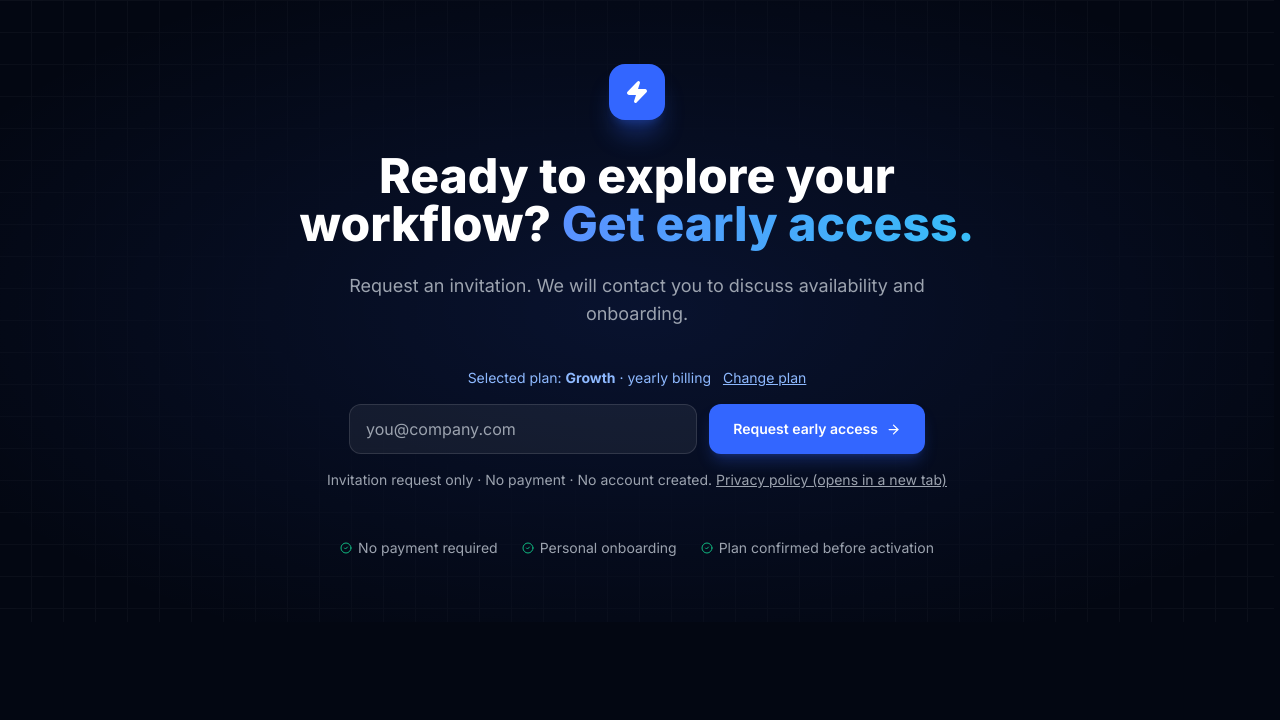
Scenario: confirms the submitted plan, billing, email, and next step
Type "team@example.com" into the field named "email address" at (523, 429), box left=349, top=404, right=697, bottom=454
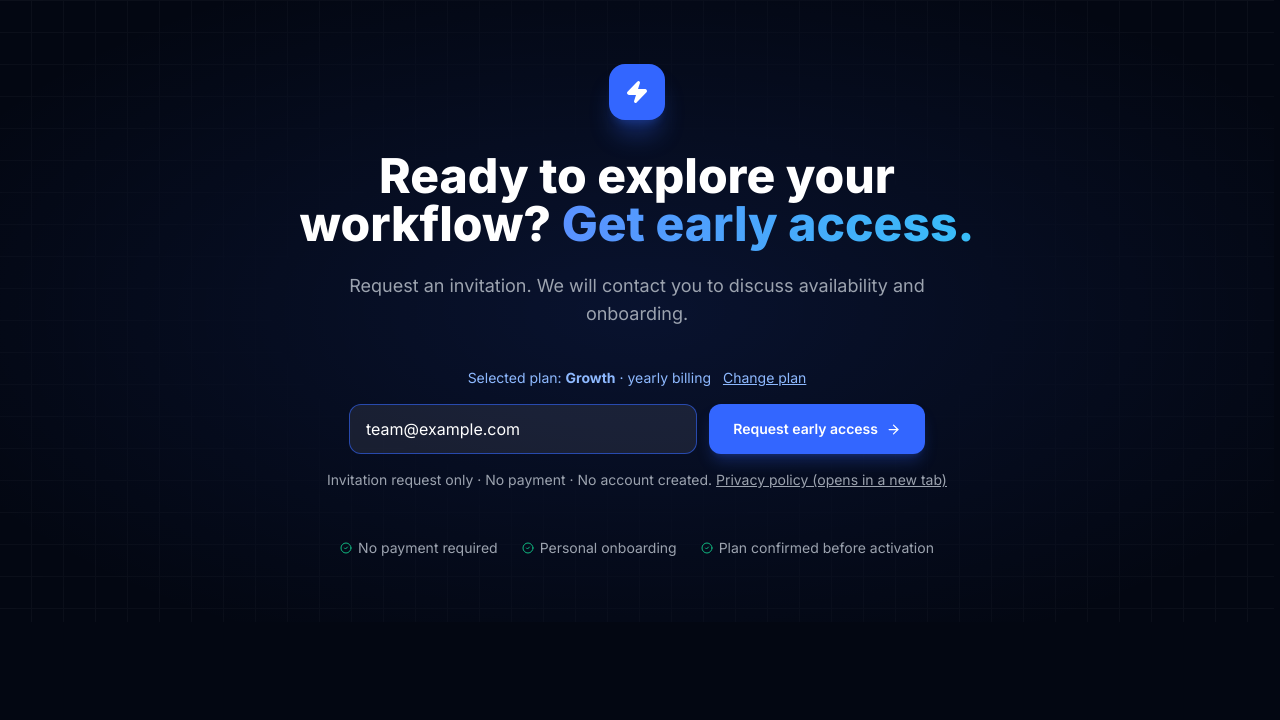
Click the button "Request early access" at (817, 429), box left=709, top=404, right=925, bottom=454
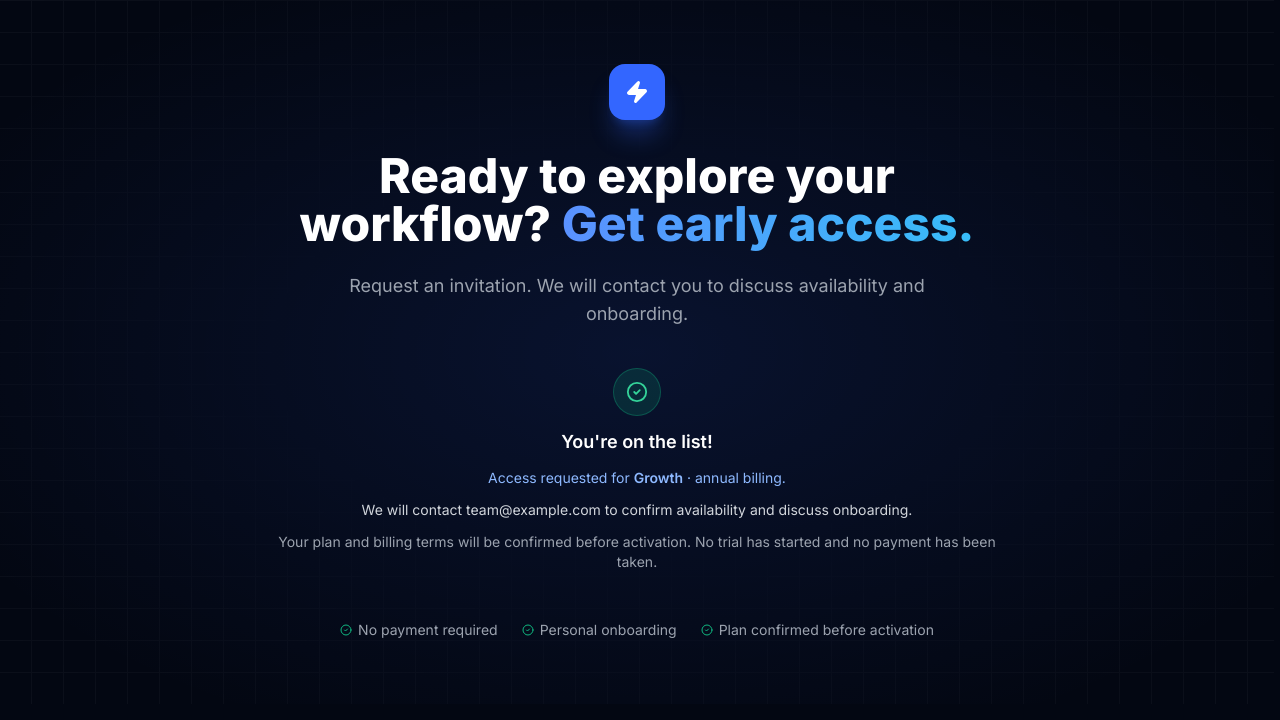
Result: the message shows "Access requested for growth · annual billing" at left=277, top=368, right=997, bottom=572
Result: the message shows "team@example.com" at left=466, top=501, right=601, bottom=518
Result: the message shows "confirm availability" at left=601, top=501, right=912, bottom=518
